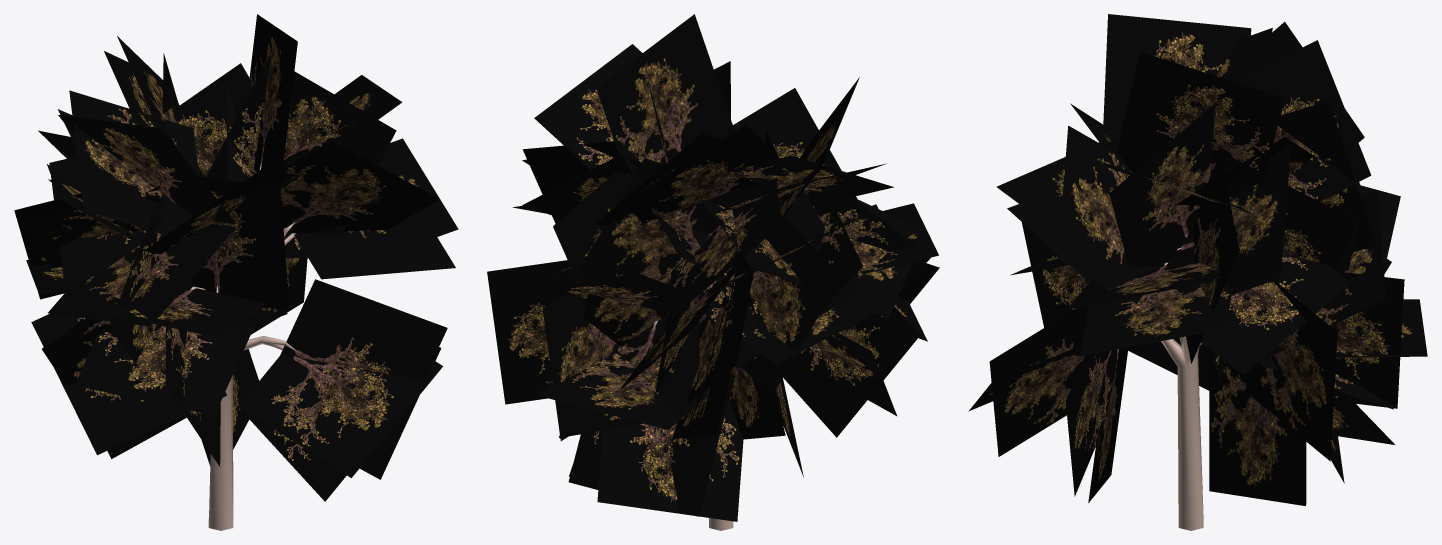
The model's file is tree30.glb.
3 renders of one model, left to right at view 1: azimuth 30°, elevation 25°; view 2: azimuth 150°, elevation 25°; view 3: azimuth 270°, elevation 25°, orthographic. The views are drawn at different scales.
Size of the model in its own units: 6 by 7.24 by 6.04.
2 materials, 1 textured.
